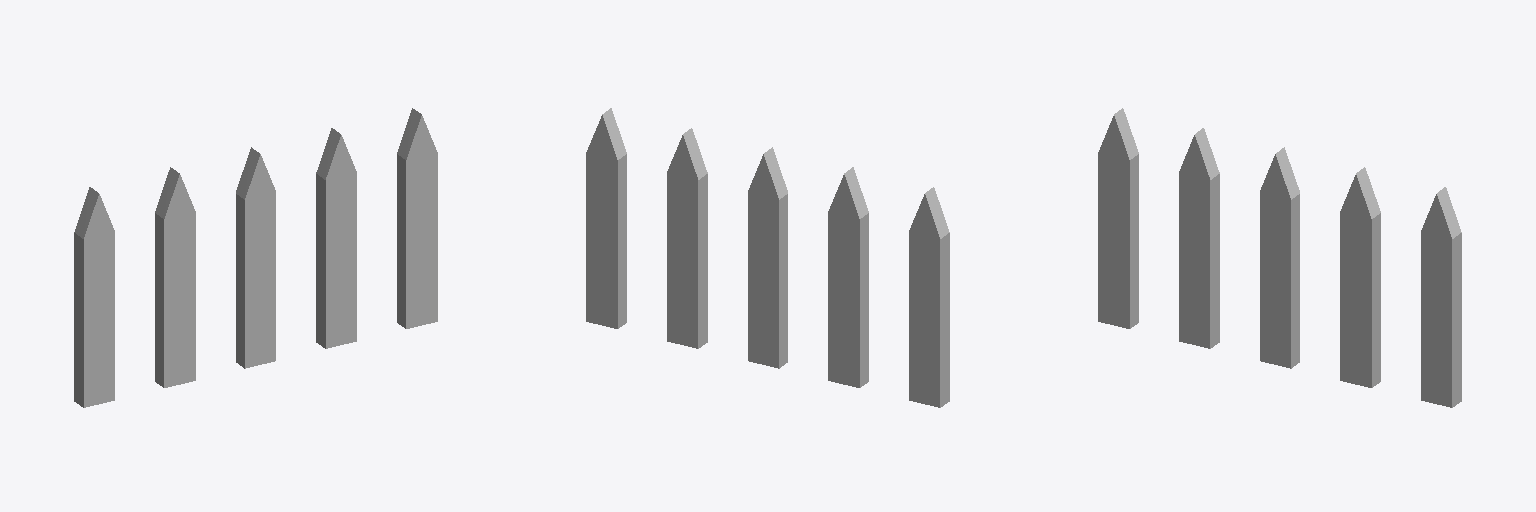
Rendered from Fence.obj.
The picture shows the model from 3 angles: view 1: azimuth 30°, elevation 25°; view 2: azimuth 150°, elevation 25°; view 3: azimuth 330°, elevation 25°; orthographic projection.
Parts seen in each view (by area): view 1: Cube; view 2: Cube; view 3: Cube.
Part boxes in pixels (bbox=[...]): Cube: bbox=[74, 108, 437, 407]; Cube: bbox=[586, 108, 949, 407]; Cube: bbox=[1098, 108, 1461, 407].
Size of the model in its own units: 4.39 by 2.5 by 0.2011.